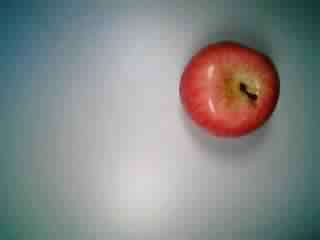apple: (178, 37, 282, 138)
